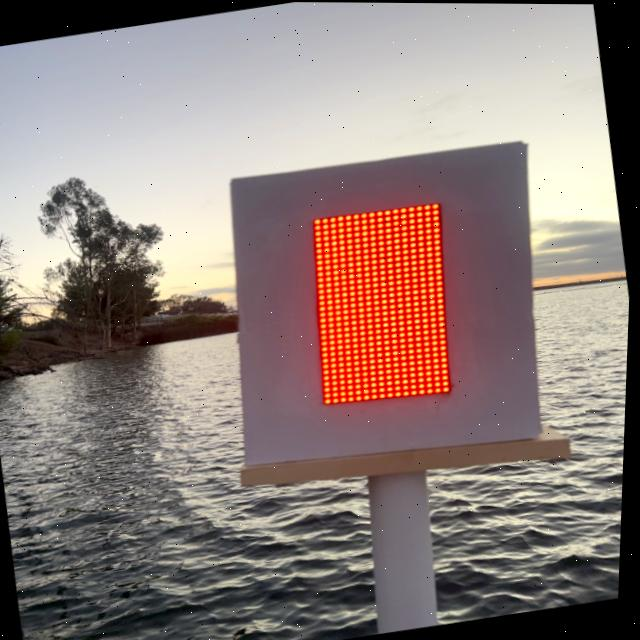led: (248, 166, 508, 447)
